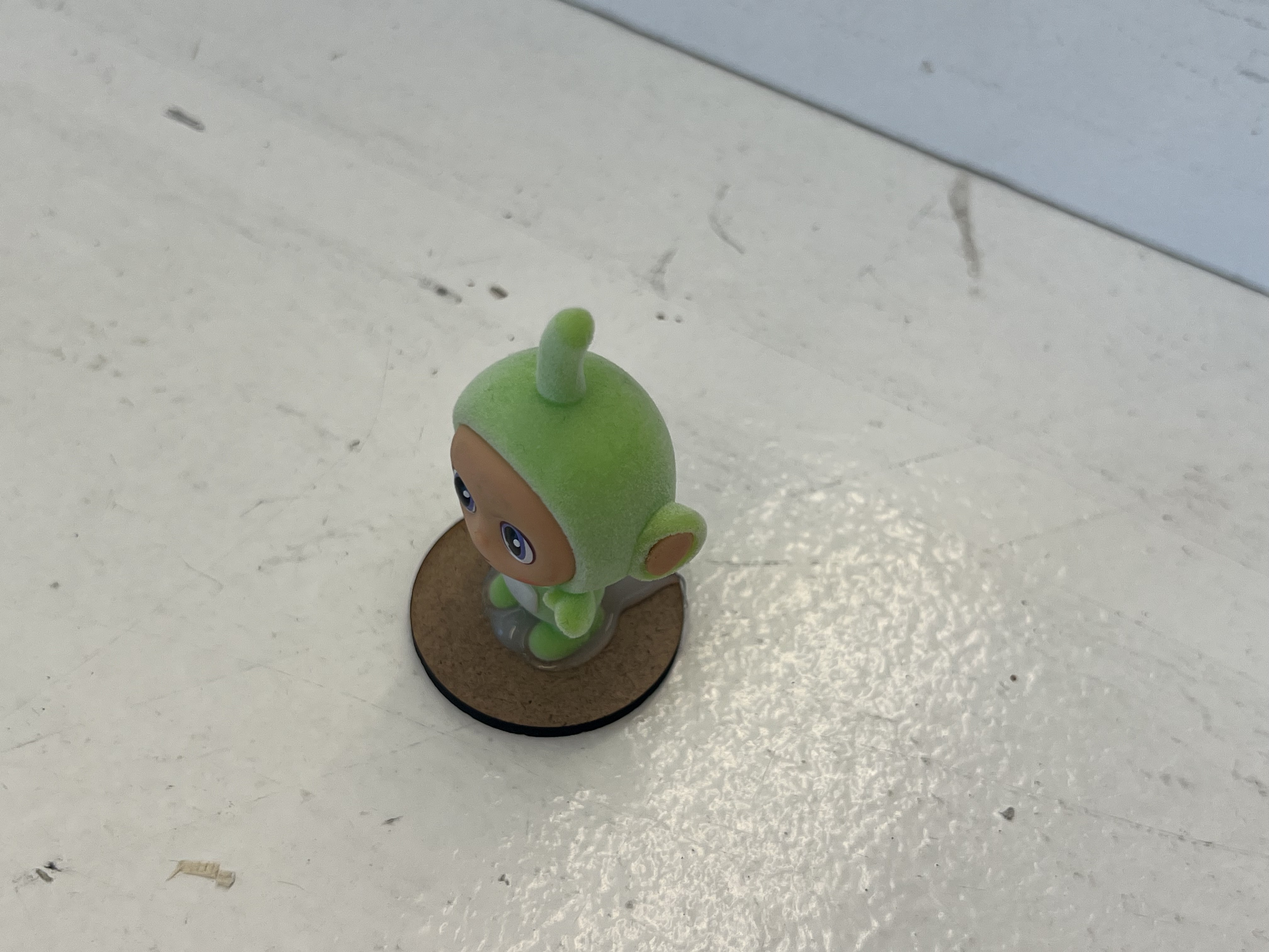teletubby: (451, 309, 706, 661)
